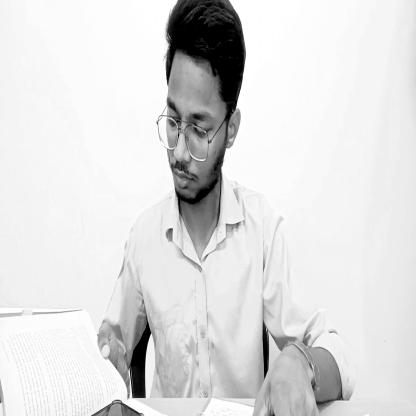Distracted: (159, 4, 246, 211)
